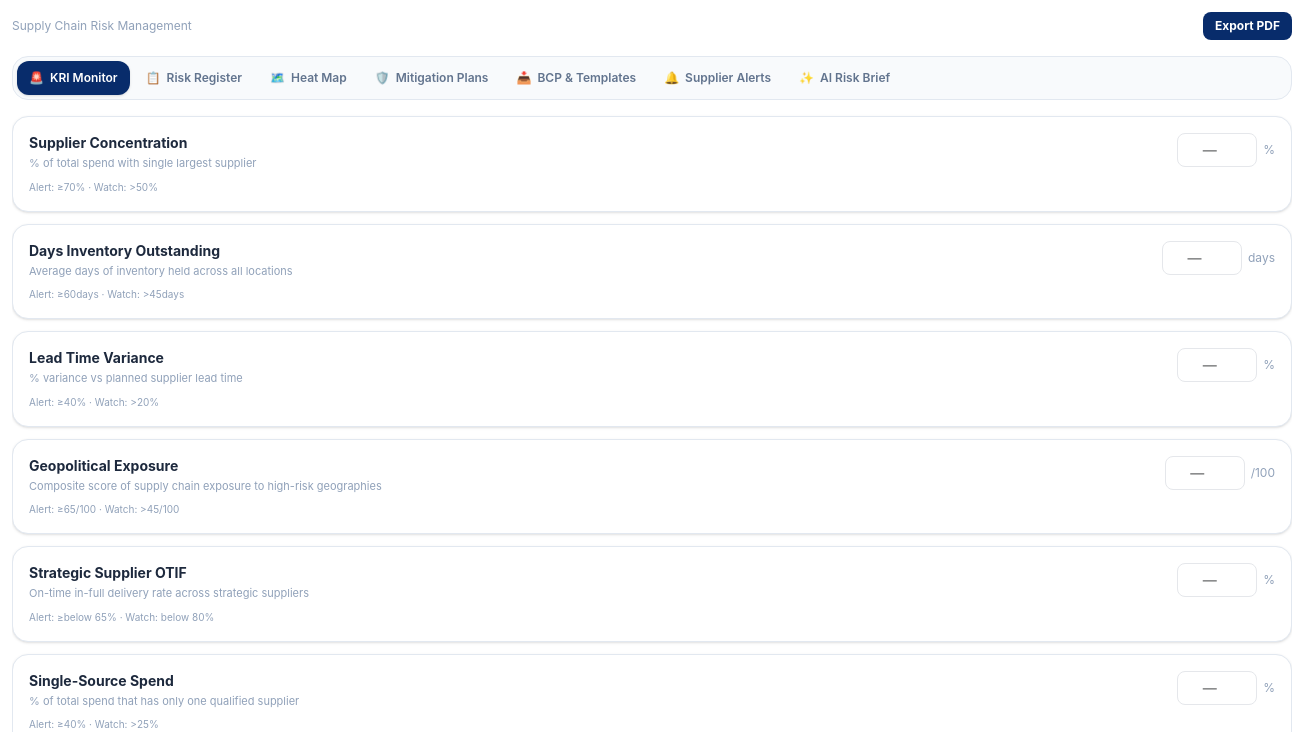
Test: RiskToolsSection — Supplier Alert Config tab › shows the threshold table after clicking Supplier Alerts tab
Click the tab "🔔 Supplier Alerts" at (718, 78), box [652,61,783,95]
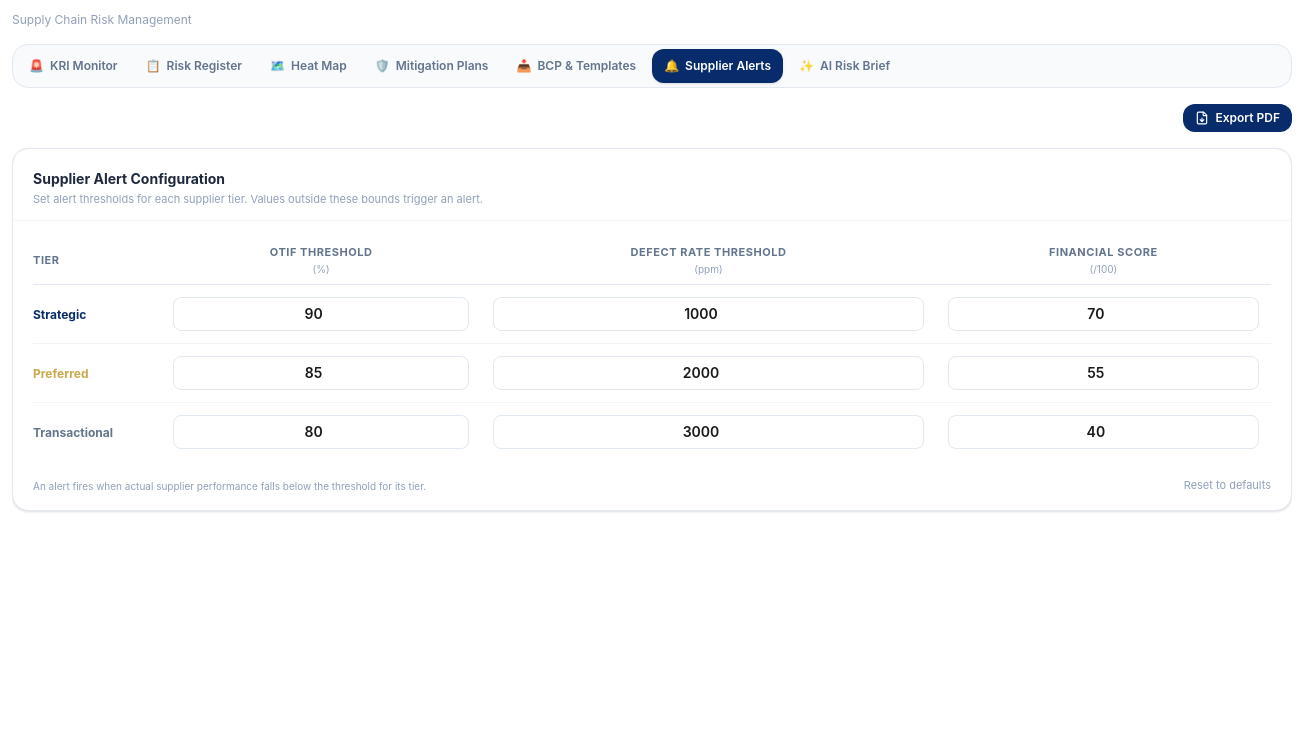
Expected: the text "Strategic" is shown, [33,308,86,322]
Result: the text "Preferred" is shown at [33,366,88,382]
Result: the text "Transactional" is shown at [33,426,113,440]
